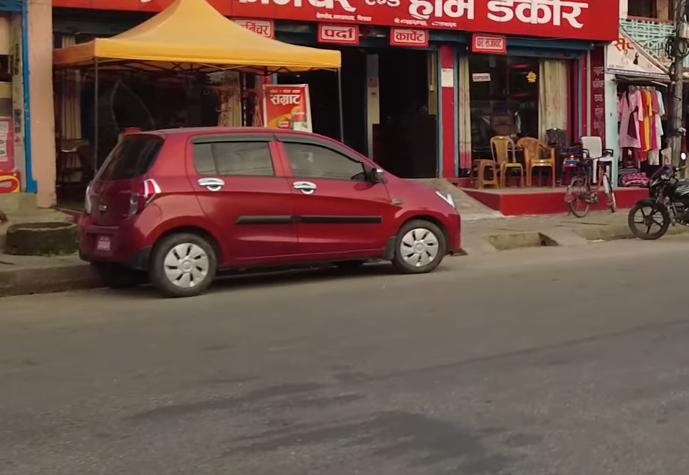bike: (626, 154, 689, 242)
car: (81, 110, 470, 299)
